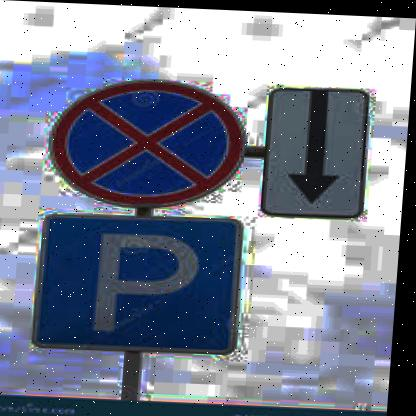Parking: (39, 207, 254, 359)
